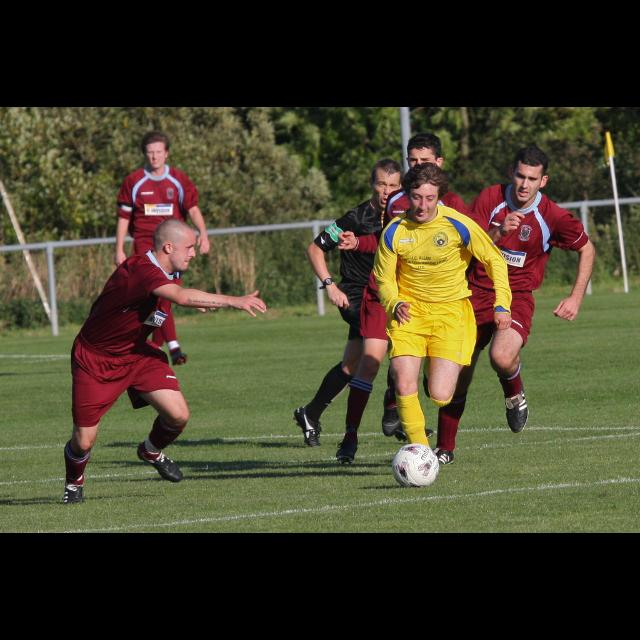Football: (392, 442, 436, 486)
